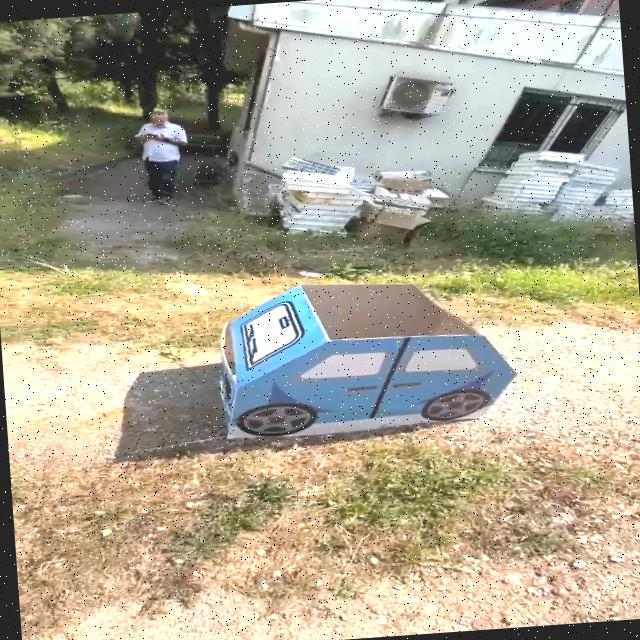blue_car: (168, 266, 543, 459)
